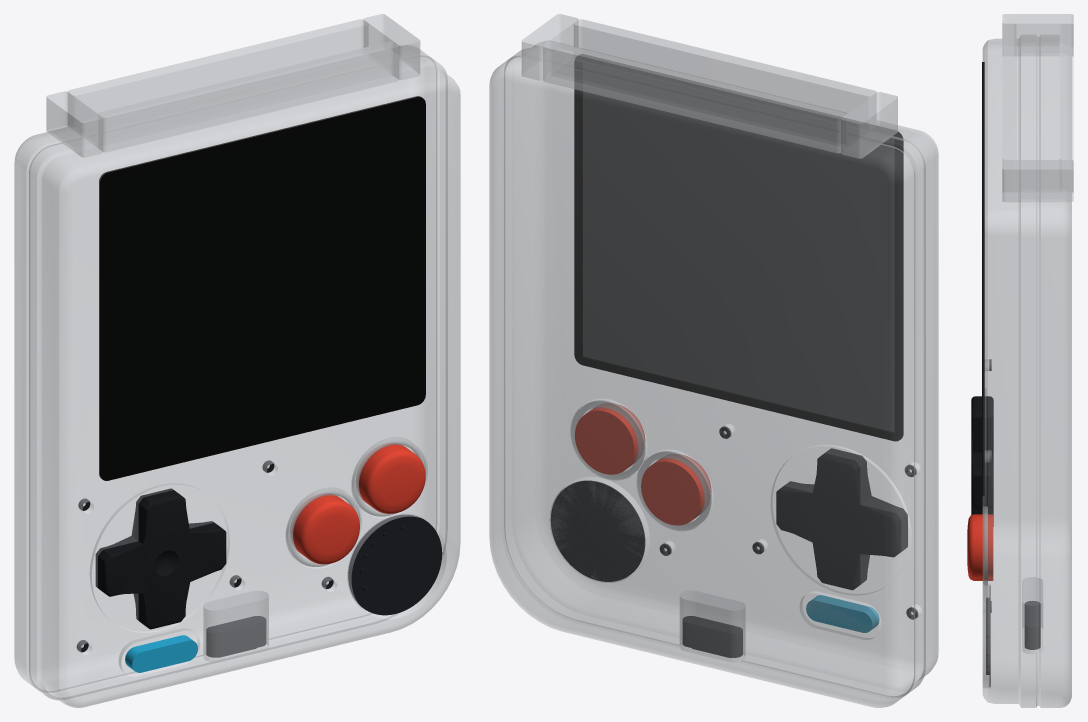
File: gameboy.glb
3 renders of one model, left to right at view 1: azimuth 30°, elevation 25°; view 2: azimuth 150°, elevation 25°; view 3: azimuth 270°, elevation 25°, orthographic. The views are drawn at different scales.
Parts seen in each view (by area): view 1: body, screen, bay, dpad, bezel, speaker, btn_a, btn_b, wells, port, start; view 2: body, screen, bay, bezel, dpad, speaker, btn_b, btn_a, wells, port, start; view 3: body, bay, dpad, btn_a, bezel, port, speaker, wells.
Boxes of the visible parts, x1,y1,x2,y2 form: body: (14,45,460,707); screen: (107,104,419,474); bay: (46,14,420,157); dpad: (95,488,226,629); bezel: (99,96,425,480); speaker: (348,514,442,615); btn_a: (356,443,425,513); btn_b: (290,494,359,564); wells: (286,438,425,566); port: (206,616,266,657); start: (125,635,197,672); body: (489,41,938,707); screen: (583,64,894,431); bay: (521,14,897,158); bezel: (574,54,903,441); dpad: (776,448,907,590); speaker: (550,480,645,581); btn_b: (641,455,711,525); btn_a: (574,404,645,474); wells: (571,400,711,530); port: (682,616,742,657); start: (806,595,879,632); body: (982,35,1071,707); bay: (1002,14,1073,202); dpad: (971,396,993,526); btn_a: (967,514,993,578); bezel: (982,62,984,496); port: (1024,601,1040,649); speaker: (986,586,990,686); wells: (983,507,987,585).
Bounding box in the file's own units: 2.5 × 3.38 × 0.596.
